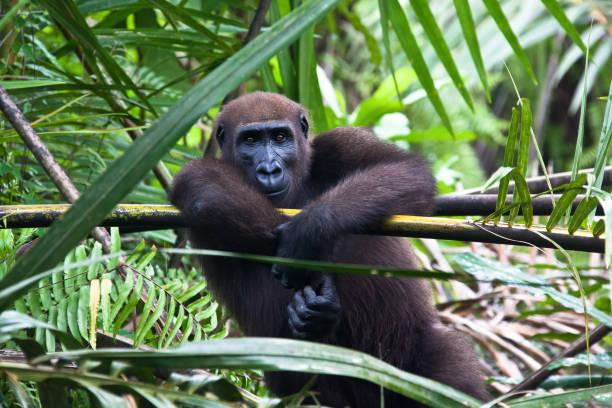gorille_Autres: (162, 58, 479, 392)
